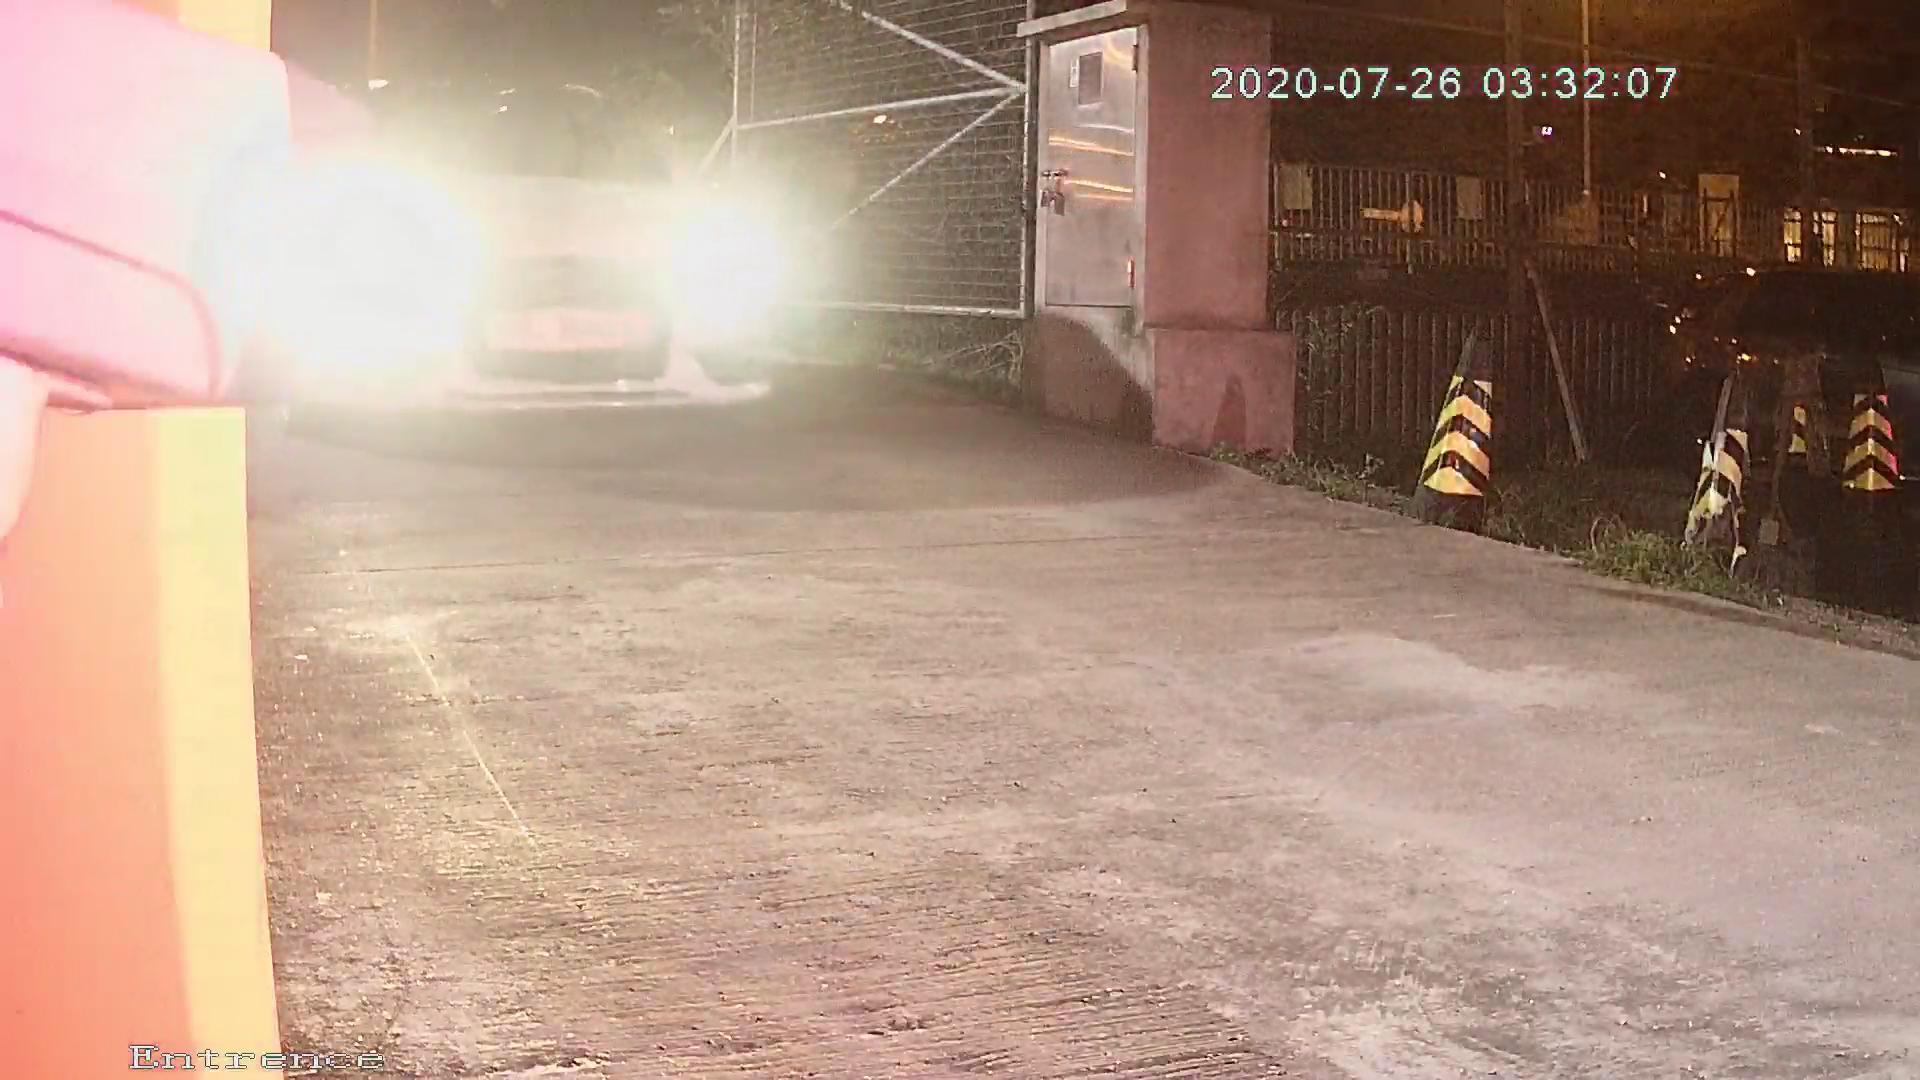privatecar: (146, 40, 798, 502)
